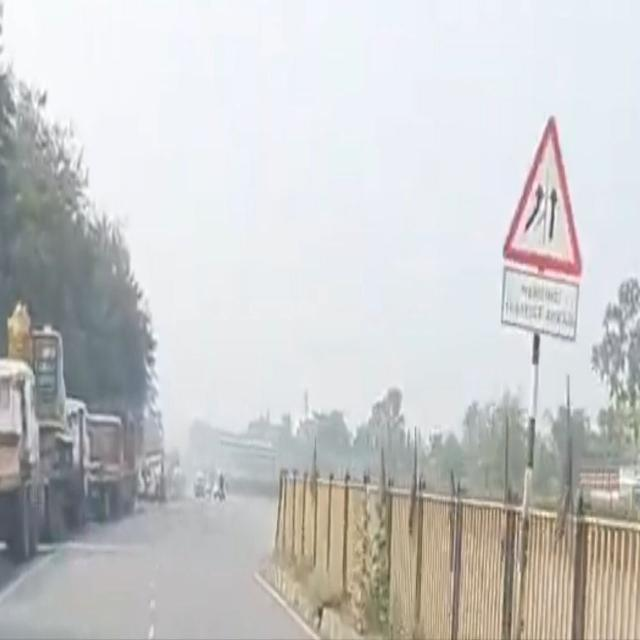merging_traffic_from_left: (504, 116, 585, 269)
